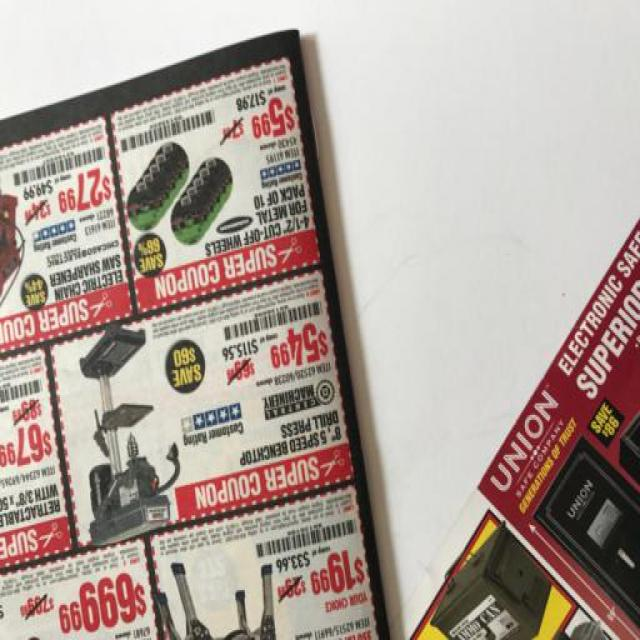paper: (3, 27, 404, 640), (410, 179, 640, 629)
